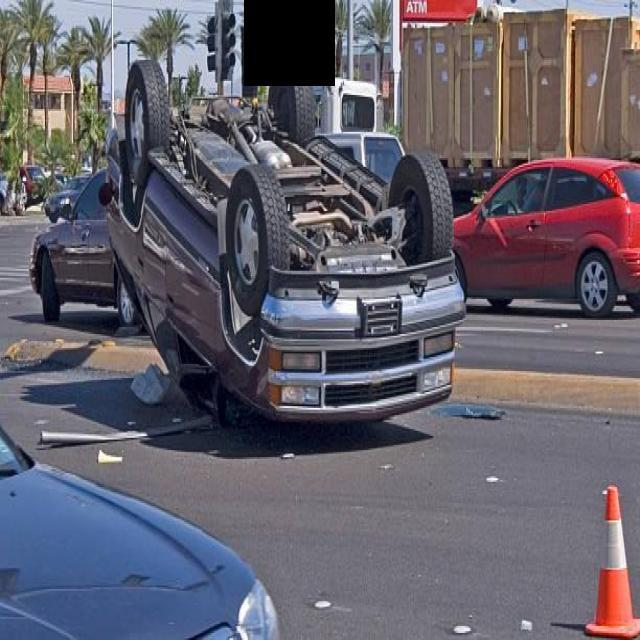severe: (105, 47, 469, 445)
